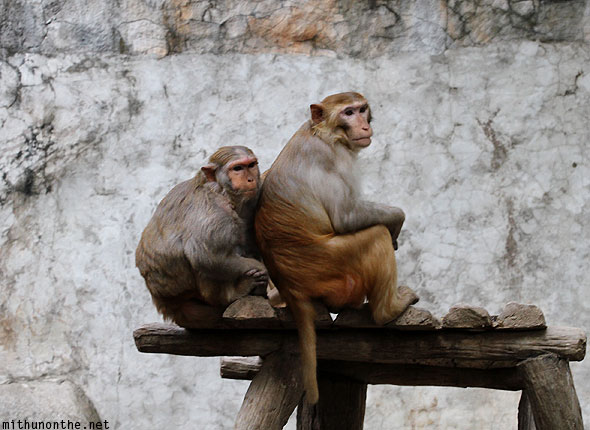monkey: (251, 88, 428, 410), (124, 135, 276, 352)
